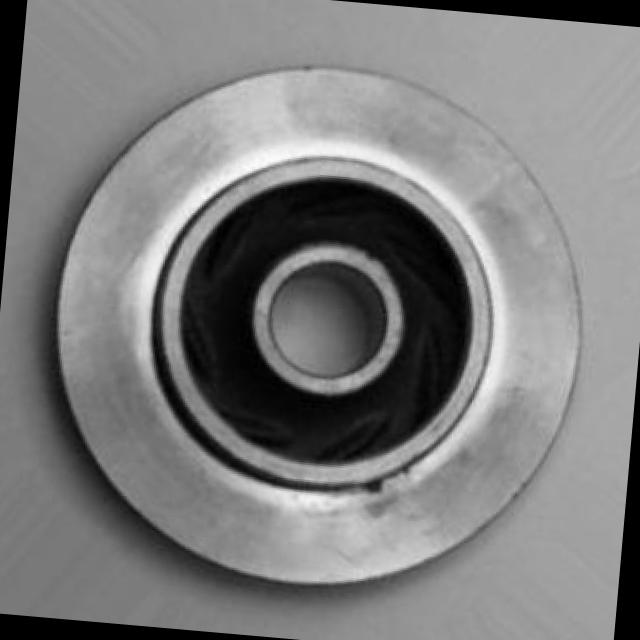Defect: (362, 478, 392, 496)
